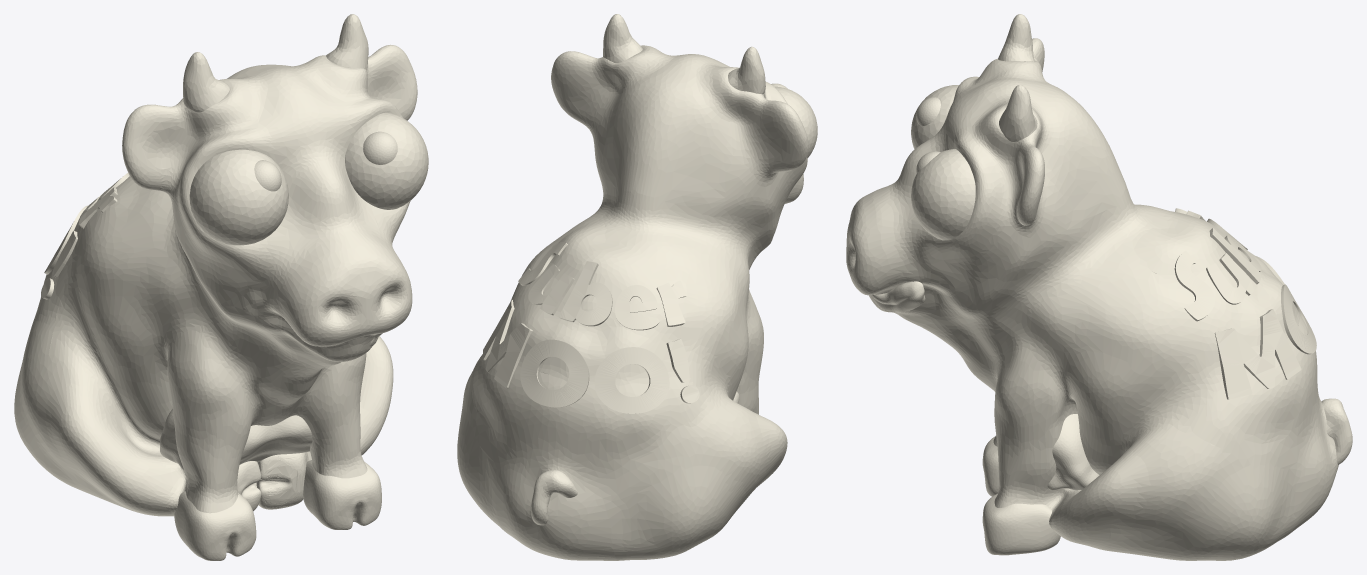
The model's file is suber-moo.glb.
3 renders of one model, left to right at view 1: azimuth 30°, elevation 25°; view 2: azimuth 150°, elevation 25°; view 3: azimuth 270°, elevation 25°, orthographic. The views are drawn at different scales.
Visible parts, largest first — view 1: Suber Moo; view 2: Suber Moo; view 3: Suber Moo.
Boxes of the visible parts, bbox=[...] form: Suber Moo: bbox=[14, 14, 428, 560]; Suber Moo: bbox=[457, 14, 817, 560]; Suber Moo: bbox=[846, 14, 1352, 560].
Size of the model in its own units: 23.48 by 34.42 by 33.69.
